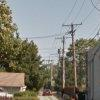Tree: (3, 2, 41, 74)
